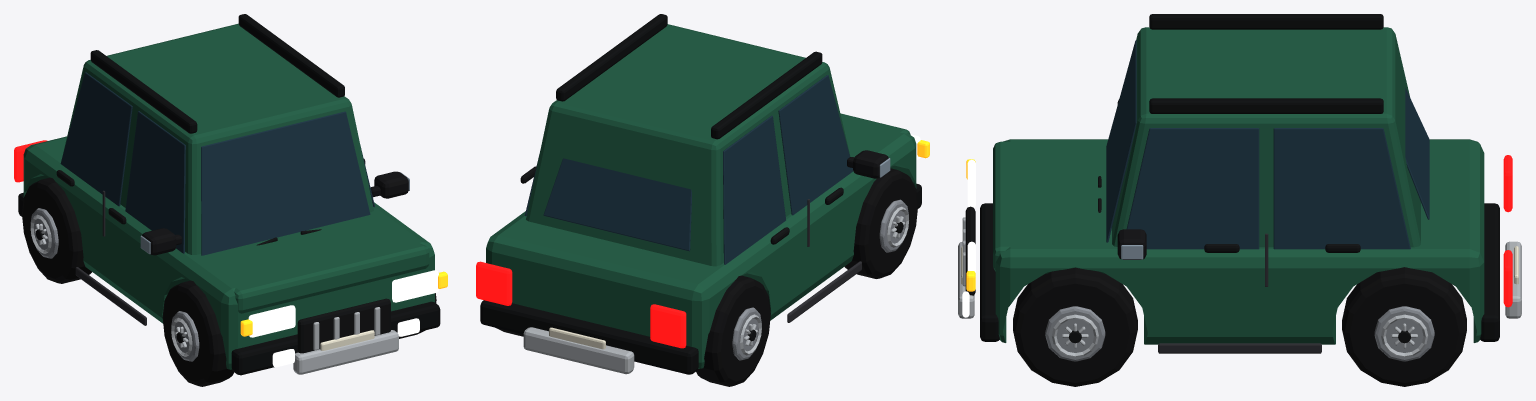
Rendered from suv.glb.
The picture shows the model from 3 angles, left to right: view 1: azimuth 30°, elevation 25°; view 2: azimuth 150°, elevation 25°; view 3: azimuth 270°, elevation 25°; orthographic projection. The views are drawn at different scales.
Parts seen in each view (by area): view 1: SUV_LowerBody, SUV_CabinShell, SUV_FrontWindshield_R6, SUV_Hood, SUV_SideWindowRear_L_R6, SUV_SideWindowFront_L_R6, SUV_Wheel_Front_L_R3, SUV_Wheel_Rear_L_R3, SUV_FrontBumper, V03_SUV_FrontGrille, V03_SUV_FrontSkidPlate, SUV_RoofRail_L (+10 smaller); view 2: SUV_CabinShell, SUV_LowerBody, SUV_RearWindow_R5, SUV_SideWindowRear_L_R6, SUV_SideWindowFront_L_R6, SUV_RearBumper, SUV_Wheel_Rear_L_R3, SUV_Wheel_Front_L_R3, V03_SUV_RearSkidPlate, SUV_RoofRail_L, SUV_RoofRail_R, V03_SUV_TailLamp_L (+6 smaller); view 3: SUV_LowerBody, SUV_CabinShell, SUV_SideWindowRear_R_R6, SUV_SideWindowFront_R_R6, SUV_Wheel_Rear_R_R3, SUV_Wheel_Front_R_R3, SUV_RoofRail_R, SUV_RoofRail_L, SUV_FrontWindshield_R6, SUV_RearBumper, SUV_Hood, SUV_FrontBumper (+12 smaller).
Part boxes in pixels (x1=…): SUV_LowerBody: x1=23, y1=136, x2=434, y2=369; SUV_CabinShell: x1=63, y1=23, x2=373, y2=254; SUV_FrontWindshield_R6: x1=201, y1=111, x2=370, y2=255; SUV_Hood: x1=195, y1=242, x2=429, y2=313; SUV_SideWindowRear_L_R6: x1=60, y1=72, x2=132, y2=206; SUV_SideWindowFront_L_R6: x1=125, y1=111, x2=185, y2=253; SUV_Wheel_Front_L_R3: x1=162, y1=280, x2=233, y2=386; SUV_Wheel_Rear_L_R3: x1=22, y1=177, x2=91, y2=283; SUV_FrontBumper: x1=231, y1=301, x2=440, y2=375; V03_SUV_FrontGrille: x1=297, y1=298, x2=390, y2=353; V03_SUV_FrontSkidPlate: x1=293, y1=330, x2=398, y2=374; SUV_RoofRail_L: x1=90, y1=50, x2=197, y2=133; SUV_CabinShell: x1=526, y1=24, x2=850, y2=266; SUV_LowerBody: x1=486, y1=118, x2=916, y2=368; SUV_RearWindow_R5: x1=543, y1=158, x2=691, y2=251; SUV_SideWindowRear_L_R6: x1=723, y1=115, x2=785, y2=264; SUV_SideWindowFront_L_R6: x1=778, y1=75, x2=853, y2=215; SUV_RearBumper: x1=480, y1=300, x2=698, y2=374; SUV_Wheel_Rear_L_R3: x1=696, y1=275, x2=770, y2=386; SUV_Wheel_Front_L_R3: x1=844, y1=168, x2=917, y2=278; V03_SUV_RearSkidPlate: x1=523, y1=327, x2=634, y2=374; SUV_RoofRail_L: x1=711, y1=51, x2=822, y2=139; SUV_RoofRail_R: x1=556, y1=14, x2=667, y2=101; V03_SUV_TailLamp_L: x1=650, y1=304, x2=686, y2=348; SUV_LowerBody: x1=995, y1=139, x2=1484, y2=344; SUV_CabinShell: x1=1112, y1=27, x2=1420, y2=247; SUV_SideWindowRear_R_R6: x1=1273, y1=128, x2=1410, y2=249; SUV_SideWindowFront_R_R6: x1=1126, y1=128, x2=1259, y2=249; SUV_Wheel_Rear_R_R3: x1=1342, y1=267, x2=1466, y2=386; SUV_Wheel_Front_R_R3: x1=1013, y1=267, x2=1137, y2=386; SUV_RoofRail_R: x1=1149, y1=98, x2=1383, y2=113; SUV_RoofRail_L: x1=1149, y1=14, x2=1383, y2=29; SUV_FrontWindshield_R6: x1=1106, y1=40, x2=1136, y2=242; SUV_RearBumper: x1=1480, y1=203, x2=1499, y2=341; SUV_Hood: x1=993, y1=141, x2=1104, y2=273; SUV_FrontBumper: x1=980, y1=203, x2=999, y2=341.
Bounding box in the file's own units: 1.83 × 1.53 × 2.92.
